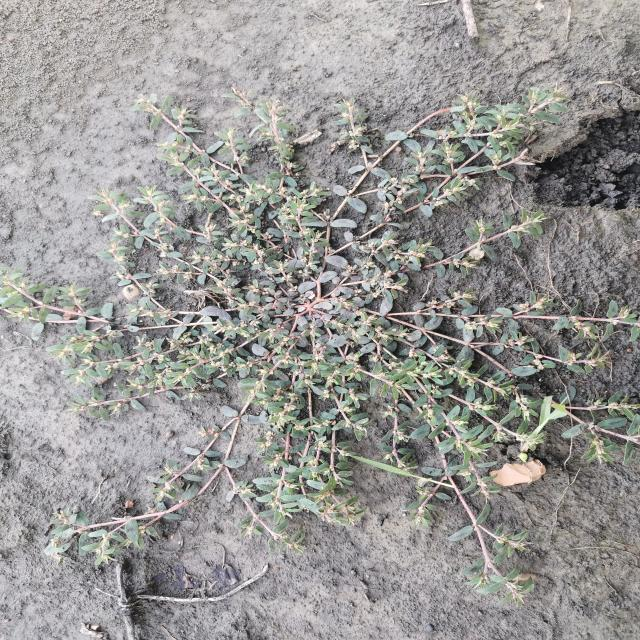SpottedSpurge: (2, 83, 635, 610)
